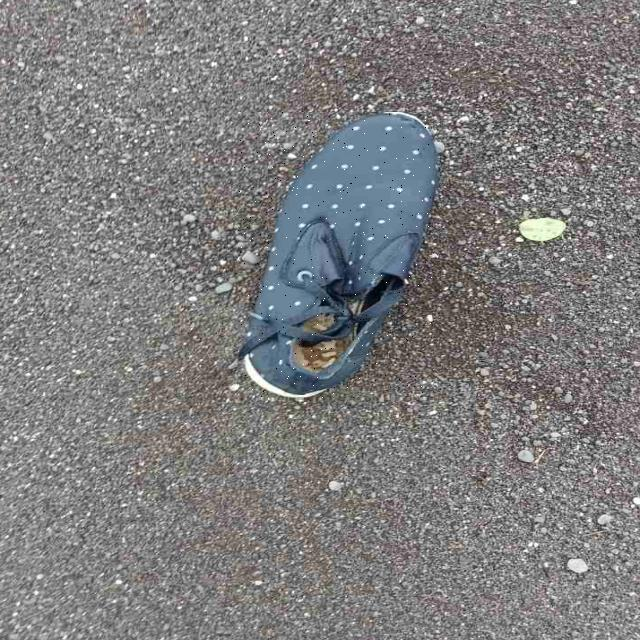other: (239, 113, 437, 399)
